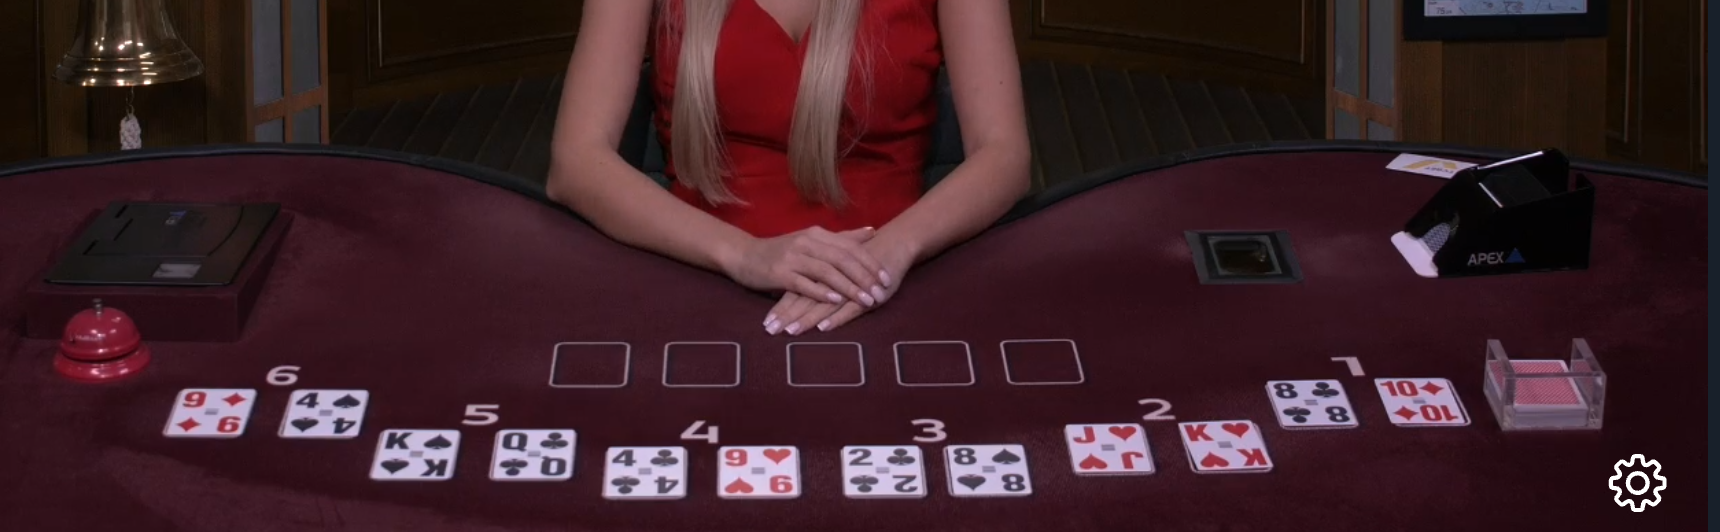10d: (1368, 370, 1473, 432)
2c: (844, 443, 929, 501)
4c: (607, 438, 689, 502)
4s: (280, 386, 370, 435)
8c: (1264, 373, 1360, 431)
8s: (944, 442, 1039, 496)
9d: (165, 382, 254, 440)
9h: (710, 440, 804, 502)
jh: (1068, 416, 1157, 483)
kh: (1178, 411, 1278, 475)
ks: (360, 418, 460, 482)
qc: (493, 421, 579, 482)
